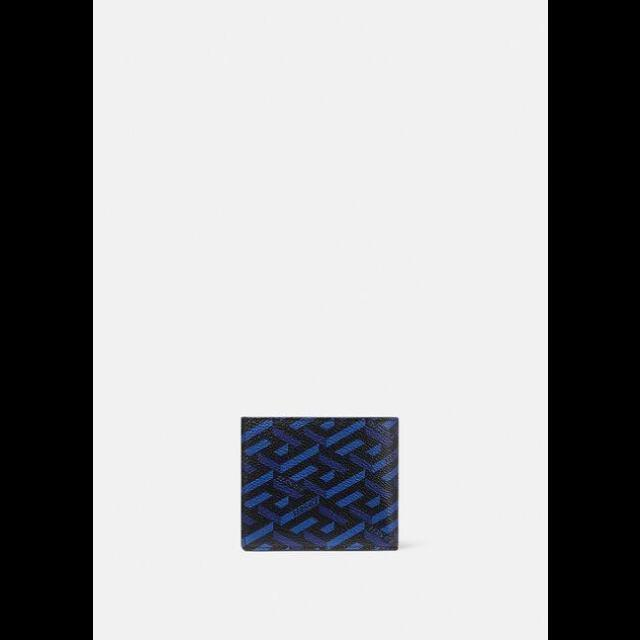wallet: (234, 409, 404, 556)
